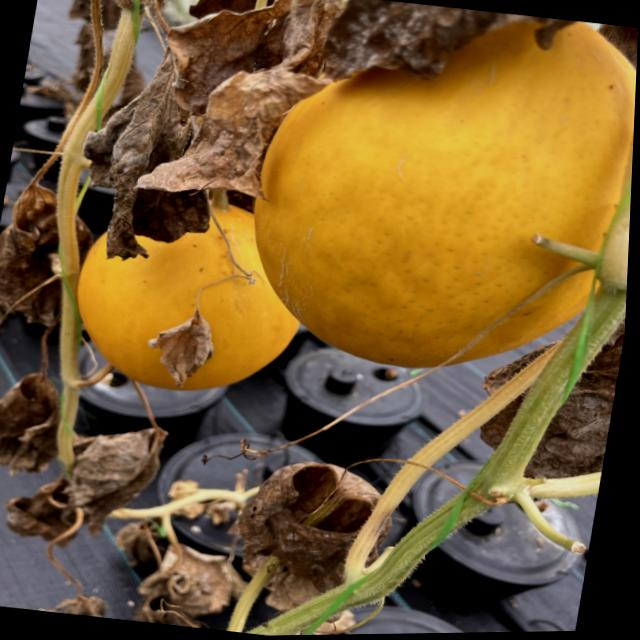bacterial wilt: (83, 0, 365, 279), (230, 453, 390, 636), (0, 177, 70, 335)
